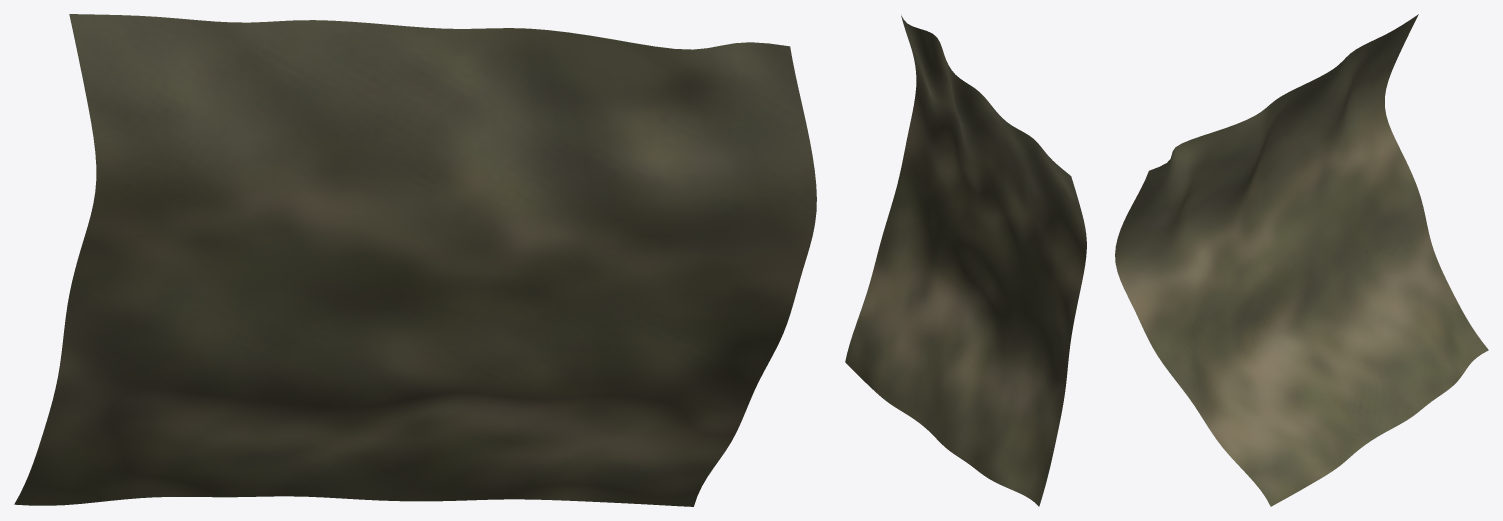
The model's file is ground_mid_08_01.obj.
3 renders of one model, left to right at view 1: azimuth 30°, elevation 25°; view 2: azimuth 150°, elevation 25°; view 3: azimuth 270°, elevation 25°, orthographic. The views are drawn at different scales.
Parts seen in each view (by area): view 1: ground_mid_08_01; view 2: ground_mid_08_01; view 3: ground_mid_08_01.
Part boxes in pixels (<box>): ground_mid_08_01: <box>14,14,816,506</box>; ground_mid_08_01: <box>845,15,1086,506</box>; ground_mid_08_01: <box>1115,14,1488,506</box>.
Bounding box in the file's own units: 200 × 200 × 202.
1 material, 1 textured.
